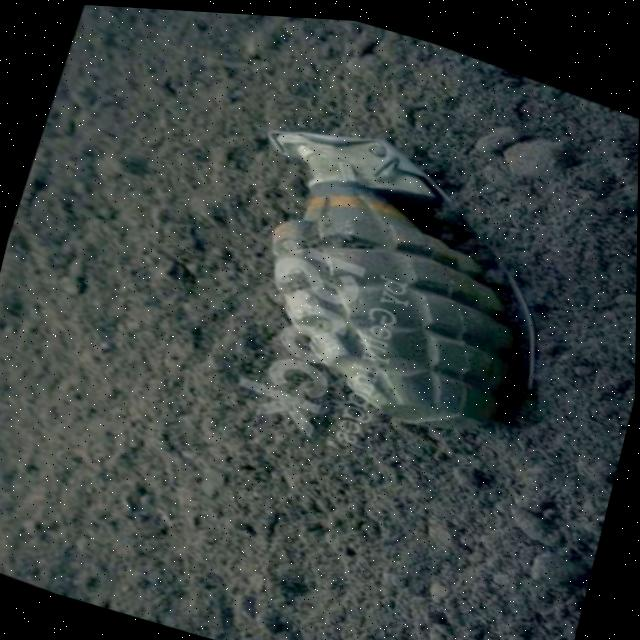grenade: (196, 89, 598, 465)
